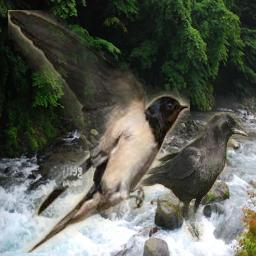Crow: (139, 112, 248, 242)
Swallow: (8, 10, 190, 253)
